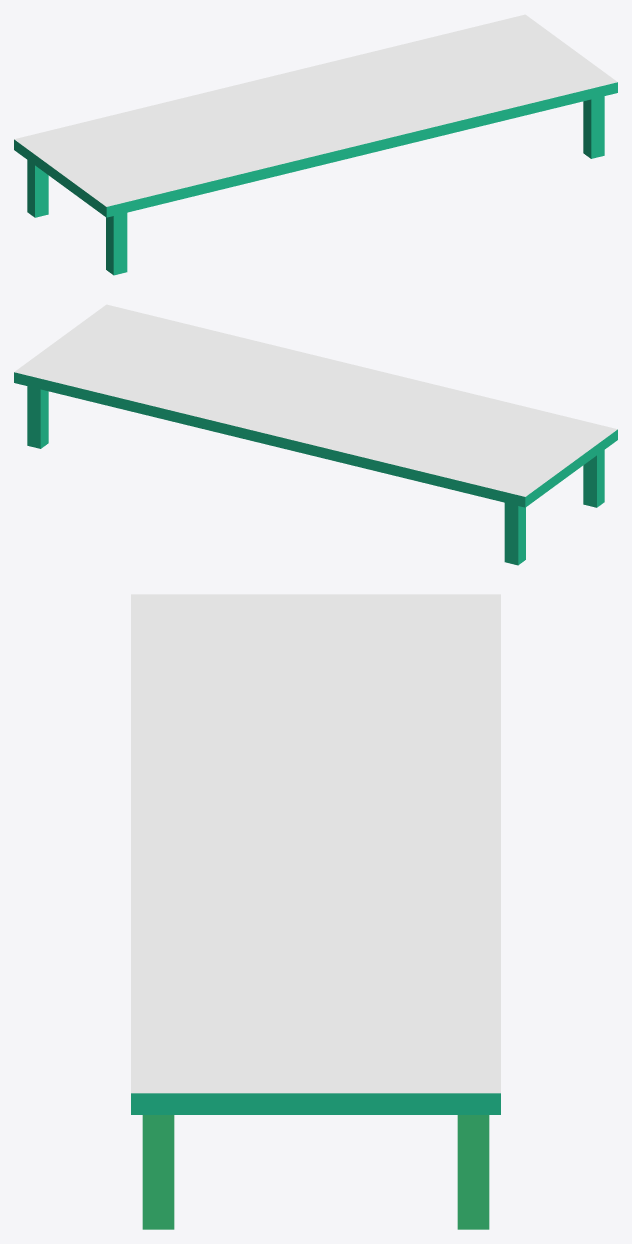
Rendered from table.obj.
3 views of the same model, one above another, from view 1: azimuth 30°, elevation 25°; view 2: azimuth 150°, elevation 25°; view 3: azimuth 270°, elevation 25° (orthographic). The views are drawn at different scales.
Visible parts, largest first — view 1: top, cuboid; view 2: top, cuboid; view 3: top, cuboid.
Part boxes in pixels (x1,y1,x2,y2): top: (14, 14, 617, 217); cuboid: (27, 96, 604, 275); top: (14, 304, 617, 507); cuboid: (27, 386, 604, 565); top: (131, 594, 500, 1114); cuboid: (142, 1115, 489, 1229).
Size of the model in its own units: 0.9375 by 0.1281 by 0.2937.
Materials: 1 (1 with a texture image).
